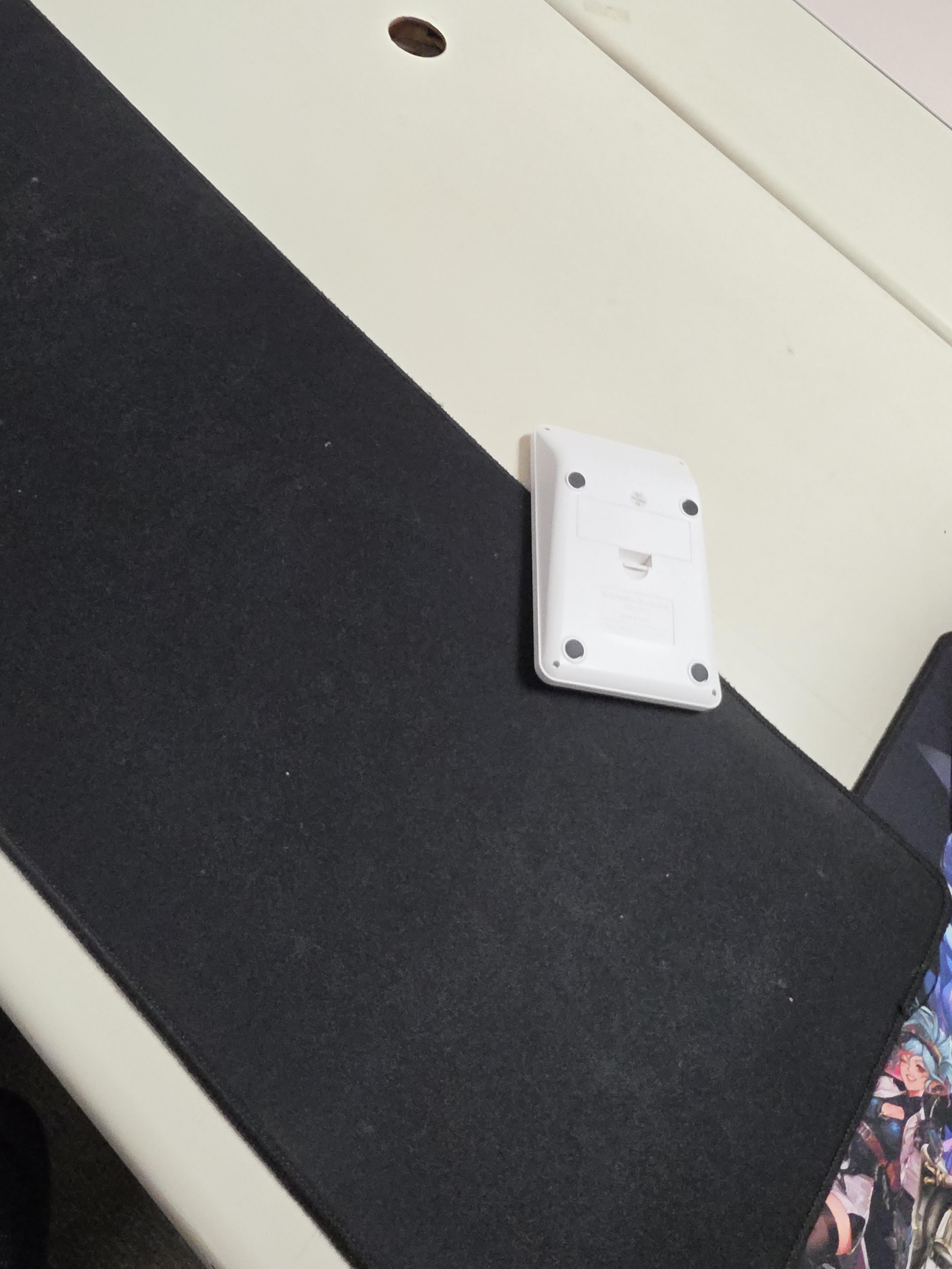calculator: (529, 424, 723, 712)
